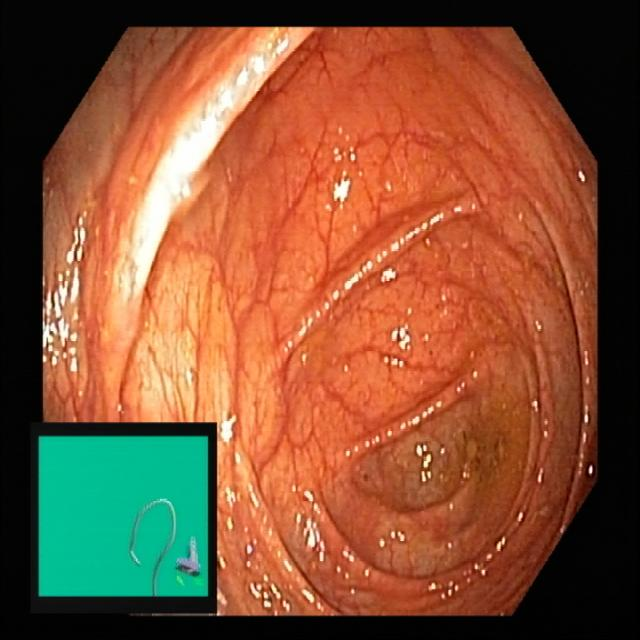normal-cecum: (358, 386, 537, 563)
